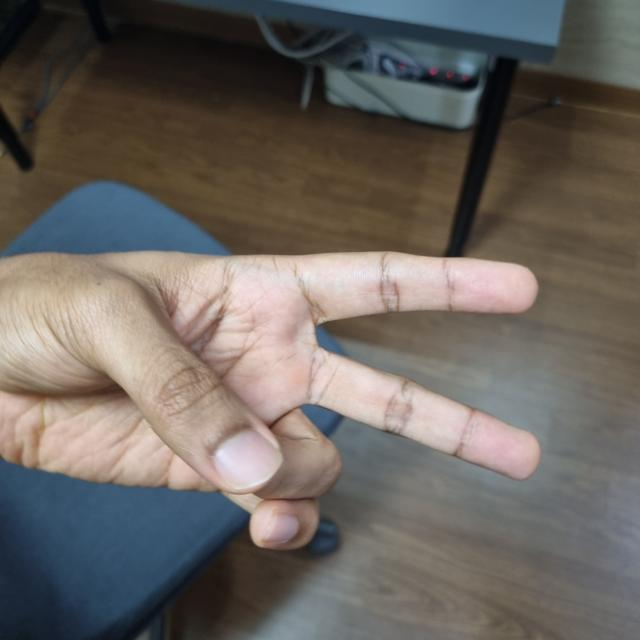Scissors: (166, 256, 538, 542)
